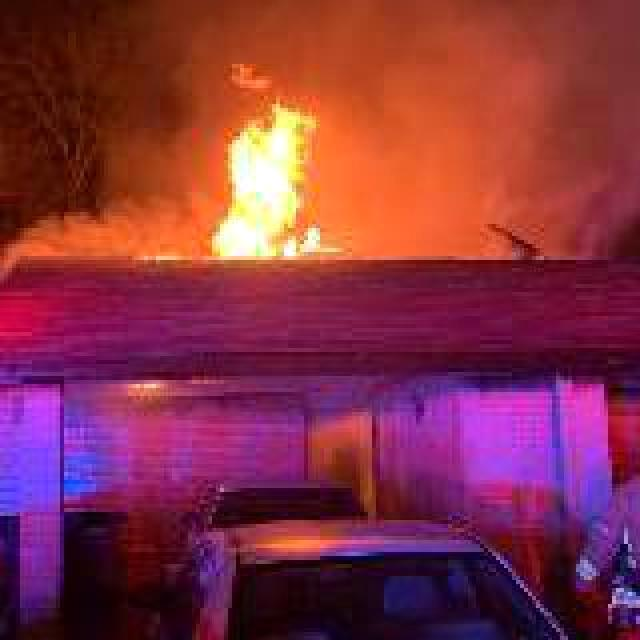smoke: (116, 0, 640, 258)
